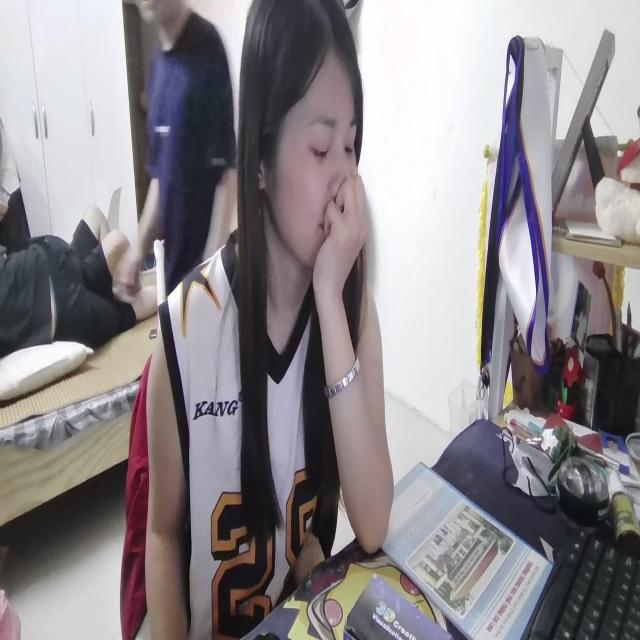book: (376, 457, 555, 640)
extra_person: (109, 0, 246, 323)
student: (146, 0, 394, 640)
